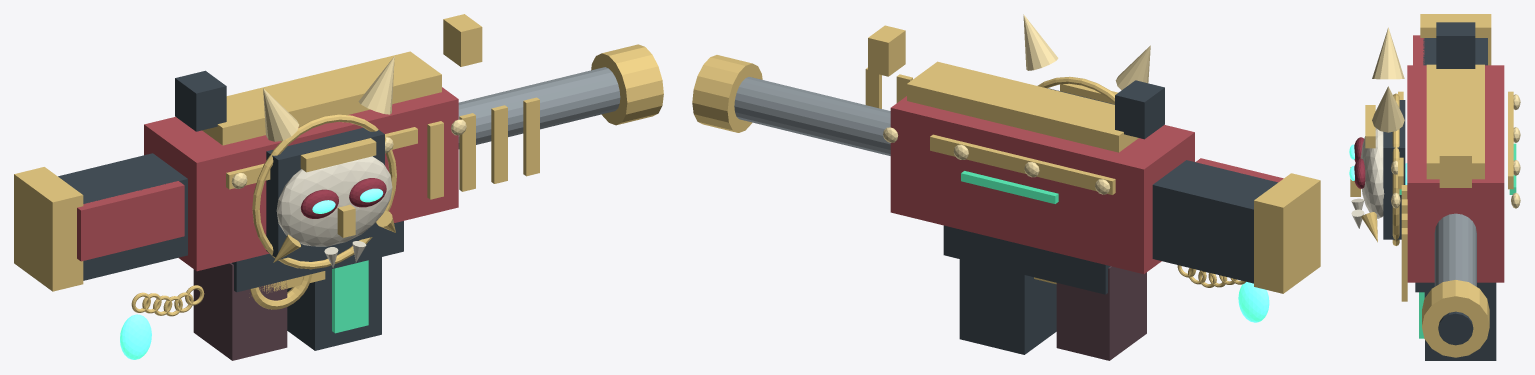
Rendered from oni-burst.glb.
3 views of the same model, side by side, from view 1: azimuth 30°, elevation 25°; view 2: azimuth 150°, elevation 25°; view 3: azimuth 270°, elevation 25° (orthographic). The views are drawn at different scales.
Parts seen in each view (by area): view 1: BURST_RECEIVER, BURST_TOP_RAIL, BURST_STOCK_CAP, BURST_GRIP, BURST_STOCK_LACQUER, BURST_BARREL, BURST_STOCK_CORE, BURST_ONI_MASK_FACE, BURST_MAGAZINE, BURST_ONI_MASK_BACK, BURST_MUZZLE, BURST_RECEIVER_UNDER (+17 smaller); view 2: BURST_RECEIVER, BURST_STOCK_CORE, BURST_TOP_RAIL, BURST_MAGAZINE, BURST_BARREL, BURST_STOCK_CAP, BURST_GRIP, BURST_MUZZLE, BURST_RECEIVER_UNDER, BURST_SIDE_GOLD_RAIL_-1, BURST_SIGHT_REAR, BURST_SIGHT_FRONT (+8 smaller); view 3: BURST_RECEIVER, BURST_TOP_RAIL, BURST_MUZZLE, BURST_BARREL, BURST_SIGHT_REAR, BURST_ONI_MASK_BACK, BURST_ONI_MASK_FACE, BURST_SIGHT_FRONT, BURST_STOCK_CAP, BURST_MAGAZINE, BURST_MUZZLE_BORE, BURST_ONI_HORN_1 (+15 smaller).
Boxes of the visible parts, left/top/right/bottom form: BURST_RECEIVER: left=144, top=87, right=458, bottom=271; BURST_TOP_RAIL: left=202, top=51, right=441, bottom=145; BURST_STOCK_CAP: left=14, top=167, right=83, bottom=291; BURST_GRIP: left=193, top=263, right=287, bottom=360; BURST_STOCK_LACQUER: left=77, top=181, right=184, bottom=261; BURST_BARREL: left=458, top=67, right=620, bottom=148; BURST_STOCK_CORE: left=58, top=153, right=187, bottom=280; BURST_ONI_MASK_FACE: left=276, top=156, right=392, bottom=246; BURST_MAGAZINE: left=287, top=257, right=381, bottom=350; BURST_ONI_MASK_BACK: left=266, top=128, right=384, bottom=259; BURST_MUZZLE: left=591, top=44, right=663, bottom=125; BURST_RECEIVER_UNDER: left=231, top=221, right=403, bottom=292; BURST_RECEIVER: left=890, top=96, right=1194, bottom=274; BURST_STOCK_CORE: left=1152, top=160, right=1277, bottom=283; BURST_TOP_RAIL: left=907, top=61, right=1138, bottom=152; BURST_MAGAZINE: left=959, top=229, right=1056, bottom=354; BURST_BARREL: left=734, top=77, right=890, bottom=155; BURST_STOCK_CAP: left=1254, top=173, right=1320, bottom=293; BURST_GRIP: left=1056, top=266, right=1146, bottom=360; BURST_MUZZLE: left=692, top=55, right=762, bottom=132; BURST_RECEIVER_UNDER: left=943, top=225, right=1110, bottom=294; BURST_SIDE_GOLD_RAIL_-1: left=930, top=134, right=1115, bottom=194; BURST_SIGHT_REAR: left=1115, top=80, right=1164, bottom=139; BURST_SIGHT_FRONT: left=868, top=25, right=905, bottom=76; BURST_RECEIVER: left=1407, top=65, right=1504, bottom=282; BURST_TOP_RAIL: left=1426, top=64, right=1484, bottom=179; BURST_MUZZLE: left=1422, top=280, right=1489, bottom=357; BURST_BARREL: left=1434, top=213, right=1476, bottom=286; BURST_SIGHT_REAR: left=1436, top=22, right=1475, bottom=68; BURST_ONI_MASK_BACK: left=1383, top=100, right=1405, bottom=239; BURST_ONI_MASK_FACE: left=1360, top=128, right=1384, bottom=218; BURST_SIGHT_FRONT: left=1439, top=146, right=1471, bottom=187; BURST_STOCK_CAP: left=1420, top=14, right=1491, bottom=65; BURST_MAGAZINE: left=1425, top=292, right=1496, bottom=360; BURST_MUZZLE_BORE: left=1438, top=311, right=1473, bottom=345; BURST_ONI_HORN_1: left=1372, top=86, right=1404, bottom=132.
Size of the model in its own units: 2.03 by 0.9264 by 0.5292.
